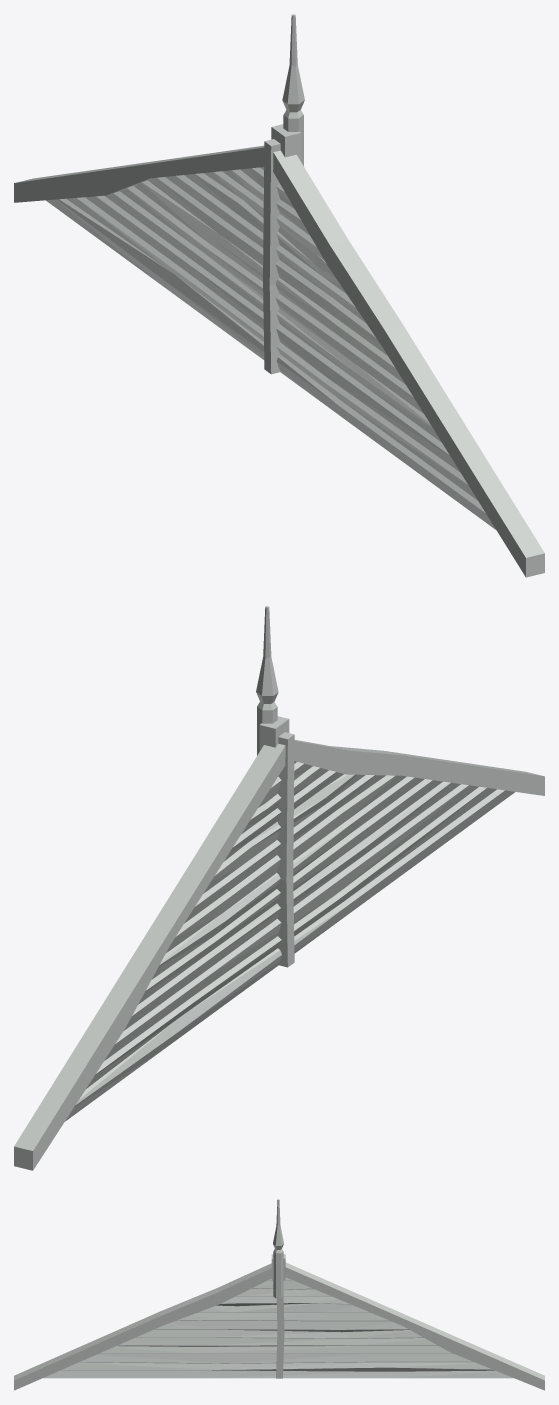
The model's file is SM_Bld_Mansion_Roof_End_Flat_01.glb.
The picture shows the model from 3 angles, top to bottom: view 1: azimuth 30°, elevation 25°; view 2: azimuth 150°, elevation 25°; view 3: azimuth 270°, elevation 25°; orthographic projection. The views are drawn at different scales.
Parts seen in each view (by area): view 1: SM_Bld_Mansion_Roof_End_Flat_01_part00; view 2: SM_Bld_Mansion_Roof_End_Flat_01_part00; view 3: SM_Bld_Mansion_Roof_End_Flat_01_part00.
Part boxes in pixels (left/top/right/bottom): SM_Bld_Mansion_Roof_End_Flat_01_part00: left=14, top=14, right=544, bottom=577; SM_Bld_Mansion_Roof_End_Flat_01_part00: left=14, top=606, right=544, bottom=1170; SM_Bld_Mansion_Roof_End_Flat_01_part00: left=14, top=1199, right=544, bottom=1390.
Bounding box in the file's own units: 0.4371 × 4.6 × 11.54.
Materials: 1 (1 with a texture image).
